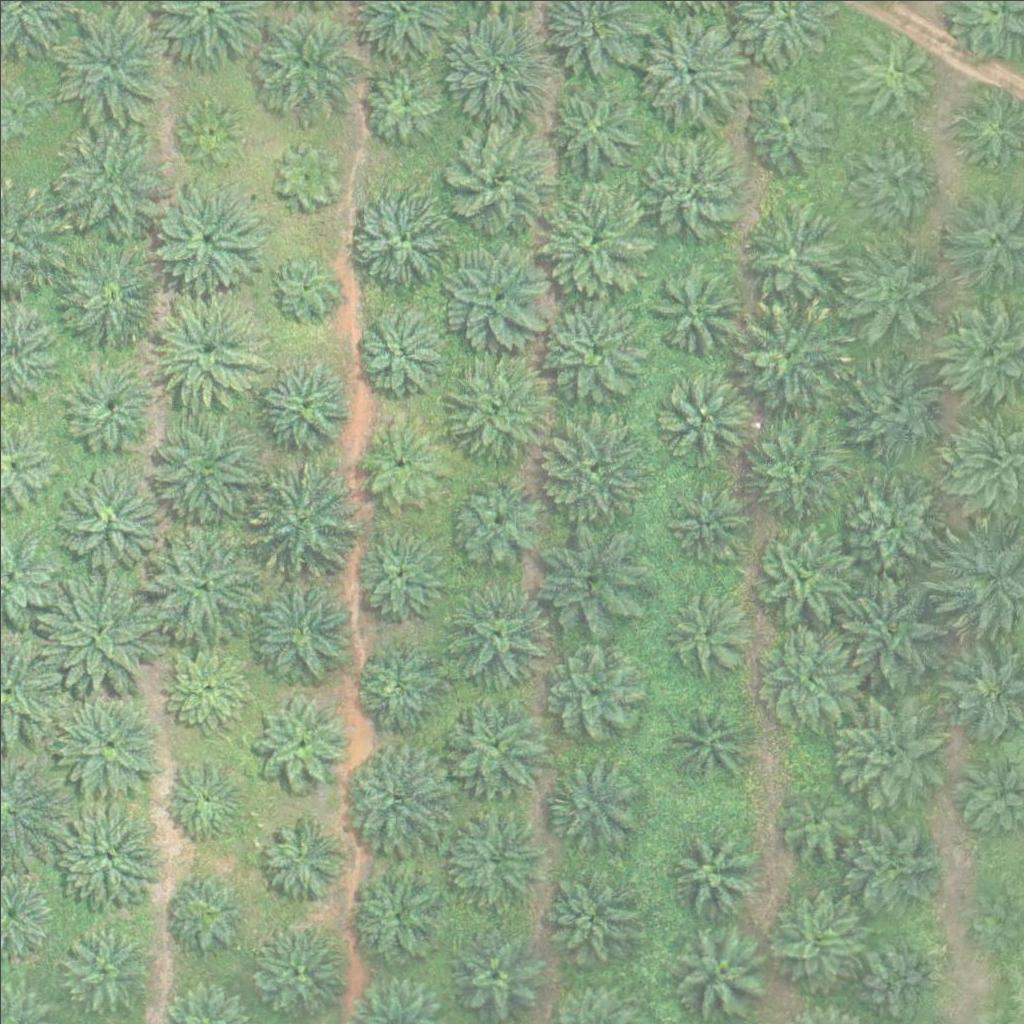Kelapa_Sawit: (438, 687, 551, 801), (338, 741, 451, 855), (241, 571, 354, 685), (249, 458, 362, 572), (832, 694, 945, 807), (532, 407, 645, 520), (537, 288, 650, 401), (243, 350, 356, 463), (151, 288, 264, 401), (52, 799, 165, 912), (51, 683, 164, 796), (58, 11, 171, 124), (149, 177, 262, 290), (444, 122, 557, 235), (440, 9, 553, 122), (539, 184, 652, 297), (537, 64, 650, 177), (144, 526, 256, 640), (147, 414, 259, 528), (50, 346, 162, 460), (53, 234, 165, 348), (632, 13, 744, 127), (836, 228, 948, 342), (833, 570, 945, 683), (836, 352, 948, 465), (732, 400, 844, 513), (533, 528, 645, 641), (440, 581, 552, 694), (443, 350, 555, 463), (43, 577, 155, 690), (49, 464, 161, 577), (50, 122, 162, 235), (249, 5, 361, 118), (341, 178, 453, 291), (441, 237, 553, 350), (631, 130, 743, 243), (735, 296, 847, 409), (247, 922, 347, 1023), (767, 894, 867, 995), (837, 810, 937, 911), (838, 469, 938, 570), (749, 624, 849, 725), (751, 527, 851, 628), (659, 685, 759, 786), (652, 367, 752, 468), (543, 644, 643, 745), (446, 473, 546, 574), (646, 258, 746, 359), (540, 866, 640, 966), (665, 919, 765, 1019), (535, 758, 635, 858), (443, 810, 543, 910), (349, 636, 449, 736), (349, 522, 449, 622), (252, 690, 352, 790), (743, 200, 843, 300), (742, 70, 842, 170), (843, 27, 943, 127), (356, 302, 444, 390), (257, 811, 345, 899), (159, 757, 247, 845), (162, 643, 250, 731), (359, 62, 447, 150), (60, 924, 147, 1013), (662, 476, 749, 565), (452, 927, 539, 1015), (352, 872, 439, 960), (659, 590, 746, 678), (357, 418, 444, 506), (162, 869, 249, 957), (854, 131, 941, 219), (670, 829, 745, 905), (775, 785, 850, 860), (178, 100, 241, 163), (270, 254, 333, 317), (275, 143, 338, 206), (968, 903, 1018, 954)
